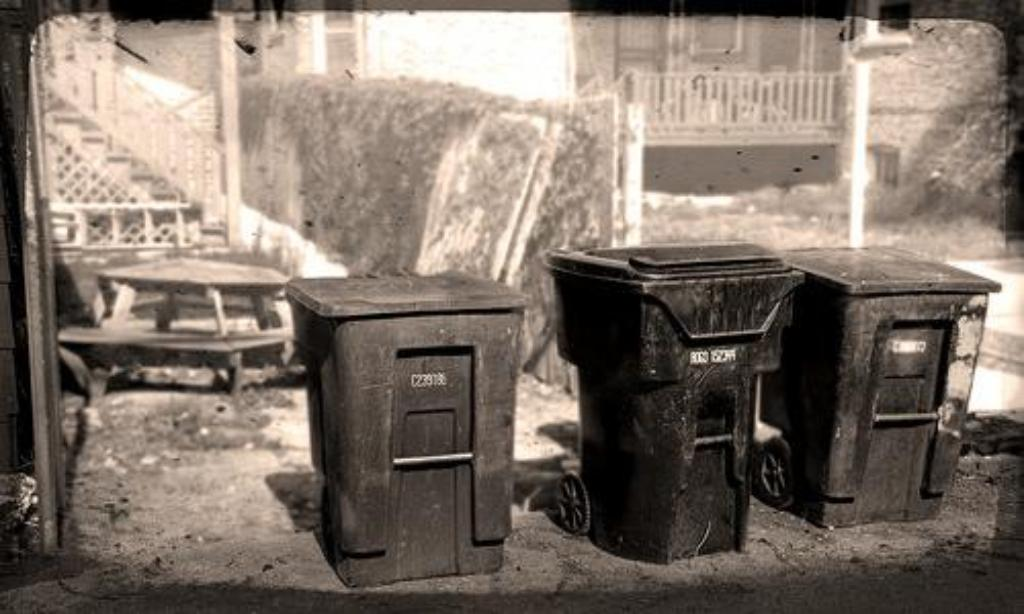dustbin: (535, 239, 809, 562), (280, 270, 527, 580), (783, 242, 991, 535)
